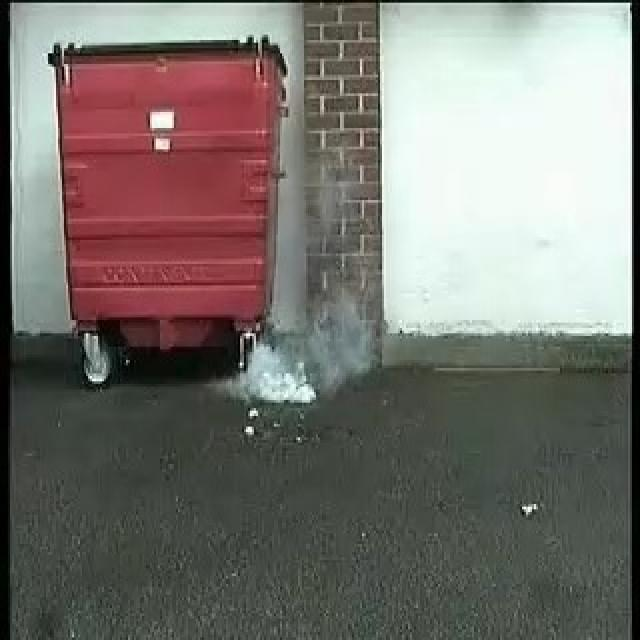smoke: (240, 298, 378, 408)
